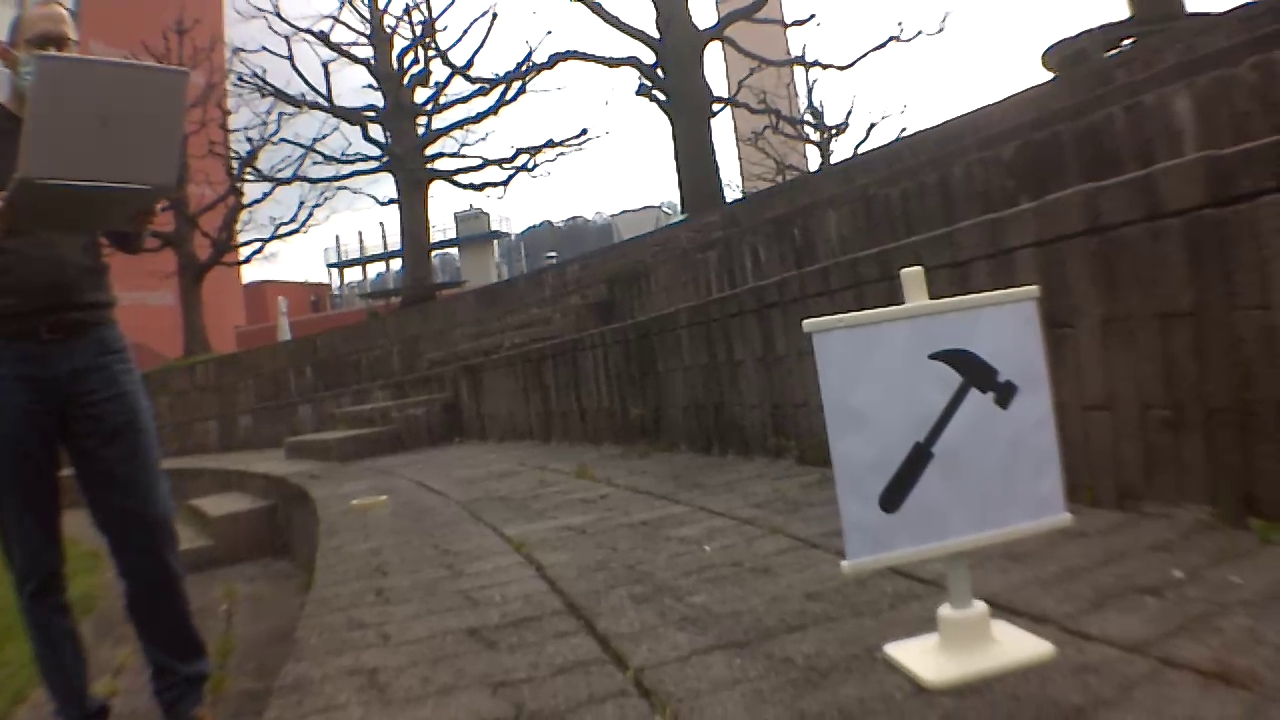hammer: (872, 339, 1024, 519)
